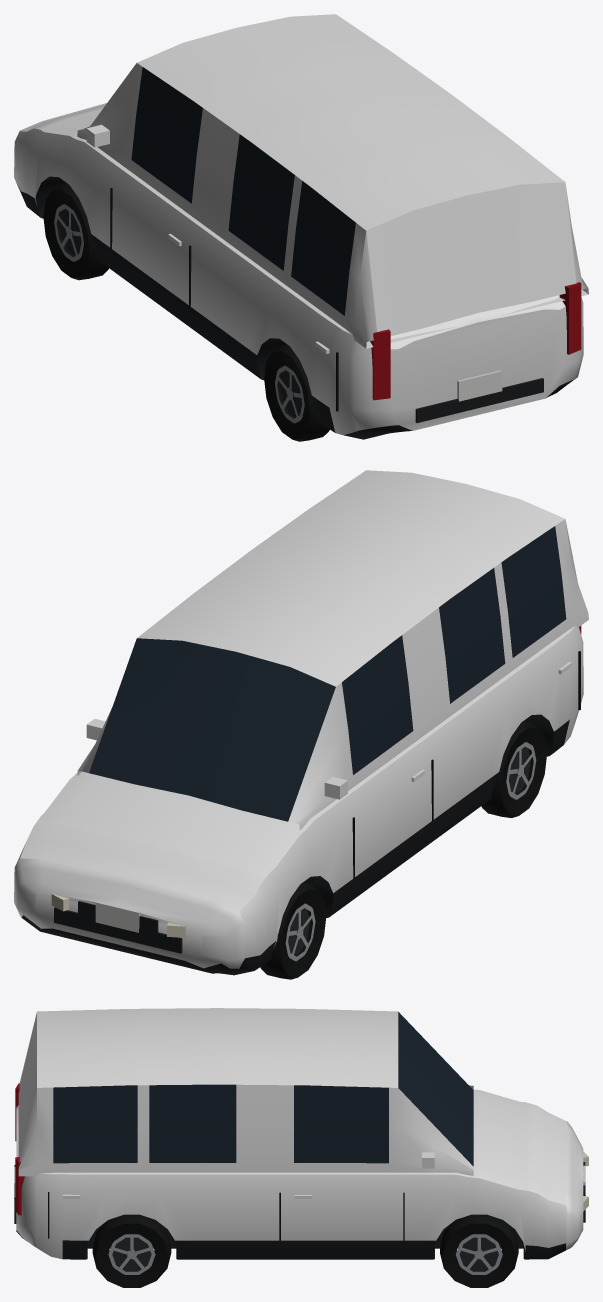
Rendered from van.glb.
3 renders of one model, top to bottom at view 1: azimuth 30°, elevation 25°; view 2: azimuth 150°, elevation 25°; view 3: azimuth 270°, elevation 25°, orthographic. The views are drawn at different scales.
Parts seen in each view (by area): view 1: van; view 2: van; view 3: van.
Boxes of the visible parts, x1,y1,x2,y2 form: van: (14, 14, 588, 441); van: (14, 470, 588, 979); van: (14, 1008, 588, 1287).
Size of the model in its own units: 1.99 by 1.98 by 4.97.
